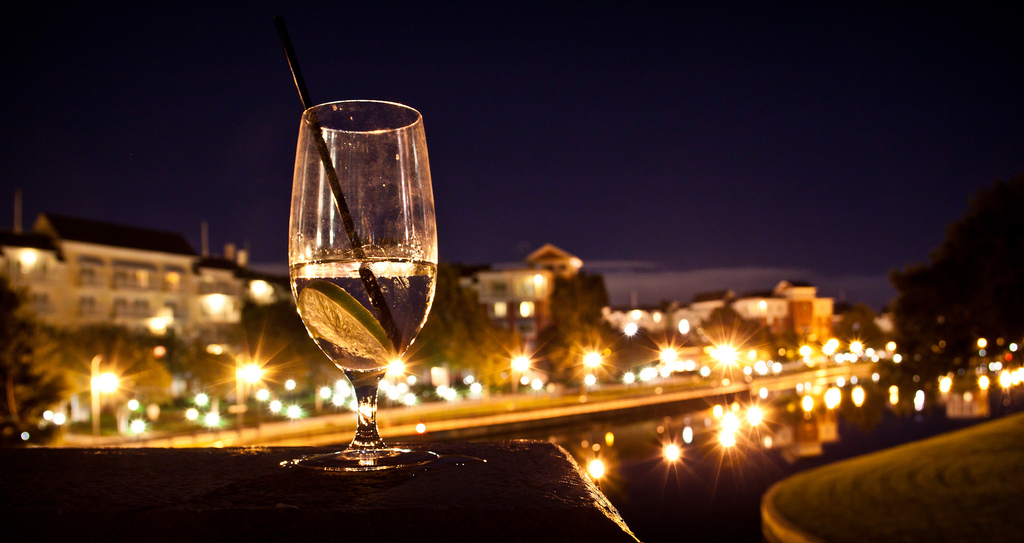glass of water: (285, 94, 435, 474)
